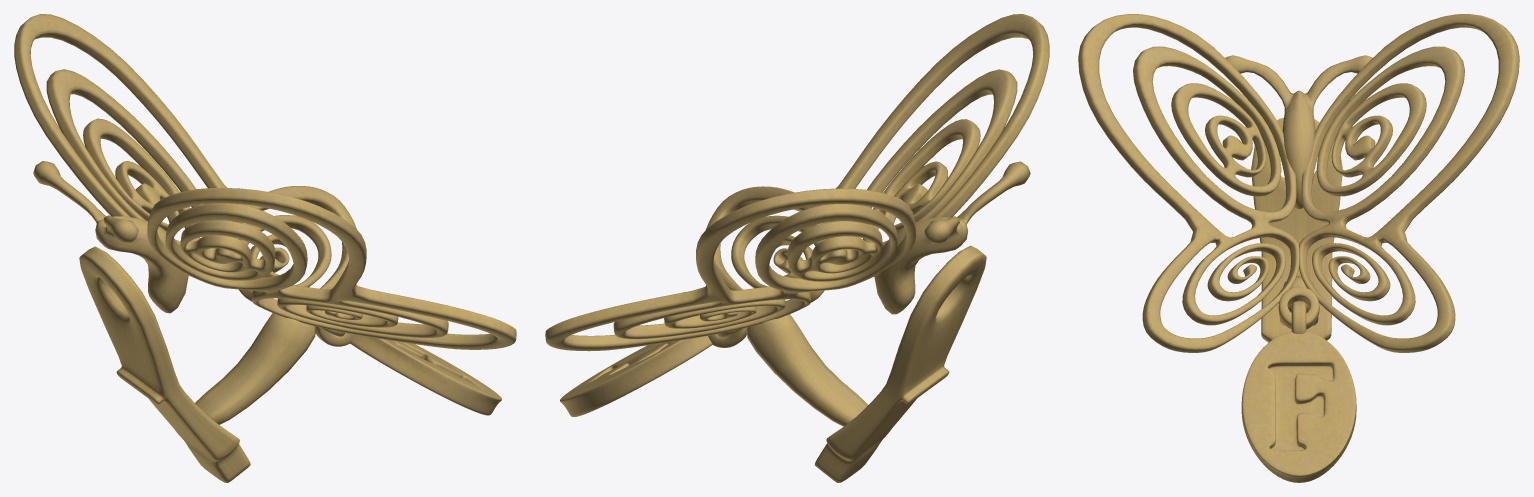
File: MM_KUPE_3D.glb
3 renders of one model, left to right at view 1: azimuth 30°, elevation 25°; view 2: azimuth 150°, elevation 25°; view 3: azimuth 270°, elevation 25°, orthographic. The views are drawn at different scales.
Parts seen in each view (by area): view 1: Wings.001, Cube.004, Cube.005, Cube.003, F.001; view 2: Wings.001, Cube.004, Cube.005, Cube.003, F.001; view 3: Wings.001, F.001, Cube.004, Cube.003, Ring_2.001, ring_1.001.
Part boxes in pixels (x1,y1,x2,y2): Wings.001: (14, 14, 516, 349); Cube.004: (79, 246, 250, 482); Cube.005: (195, 313, 315, 424); Cube.003: (33, 161, 188, 313); F.001: (350, 334, 501, 415); Wings.001: (545, 14, 1049, 351); Cube.004: (815, 245, 986, 482); Cube.005: (747, 314, 867, 426); Cube.003: (874, 161, 1030, 314); F.001: (560, 336, 712, 416); Wings.001: (1078, 14, 1519, 352); F.001: (1241, 332, 1356, 482); Cube.004: (1251, 118, 1342, 342); Cube.003: (1225, 55, 1372, 209); Ring_2.001: (1278, 286, 1319, 329); ring_1.001: (1291, 301, 1306, 333).
Bounding box in the file's own units: 4.32 × 3.79 × 4.69.
Materials: 1 (1 with a texture image).
